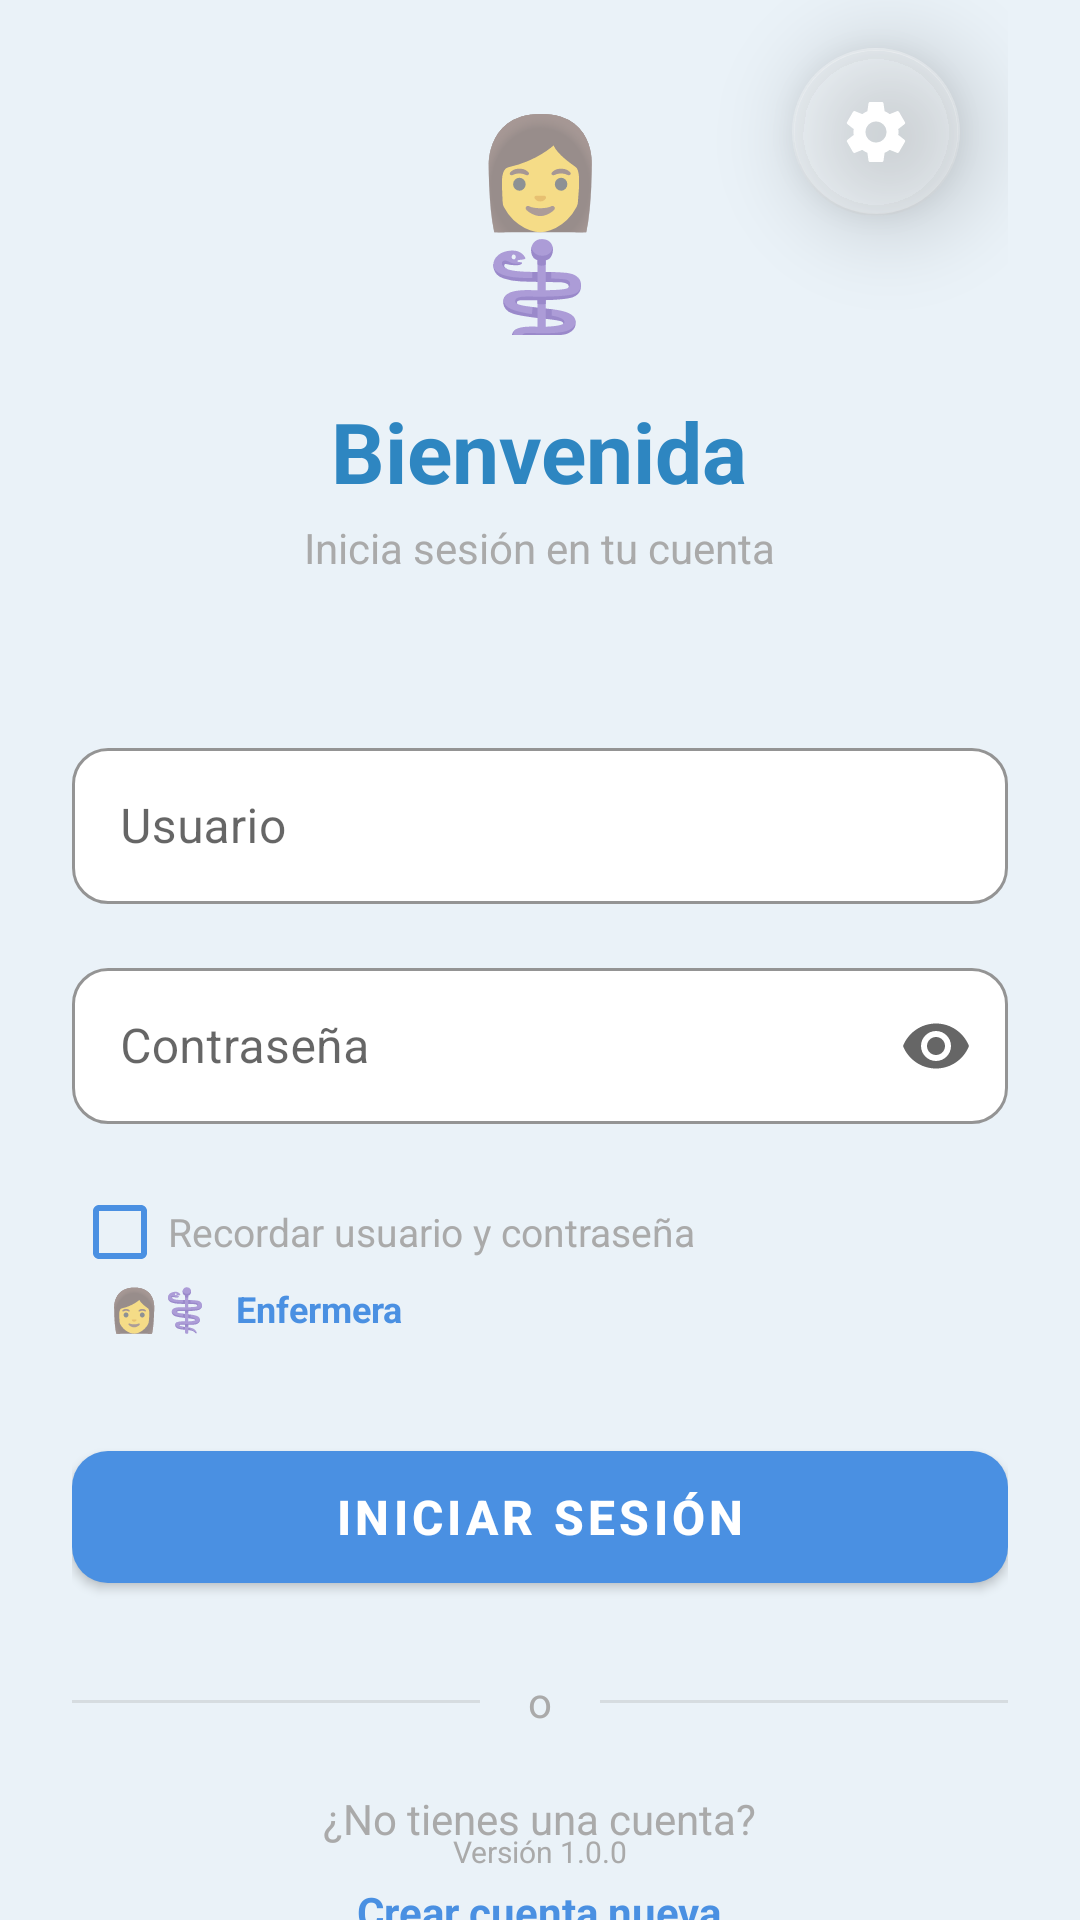

Named icons in this screenshot (1080px x 1920px) and their centers, point (x, y):
settings: point (876, 132)
